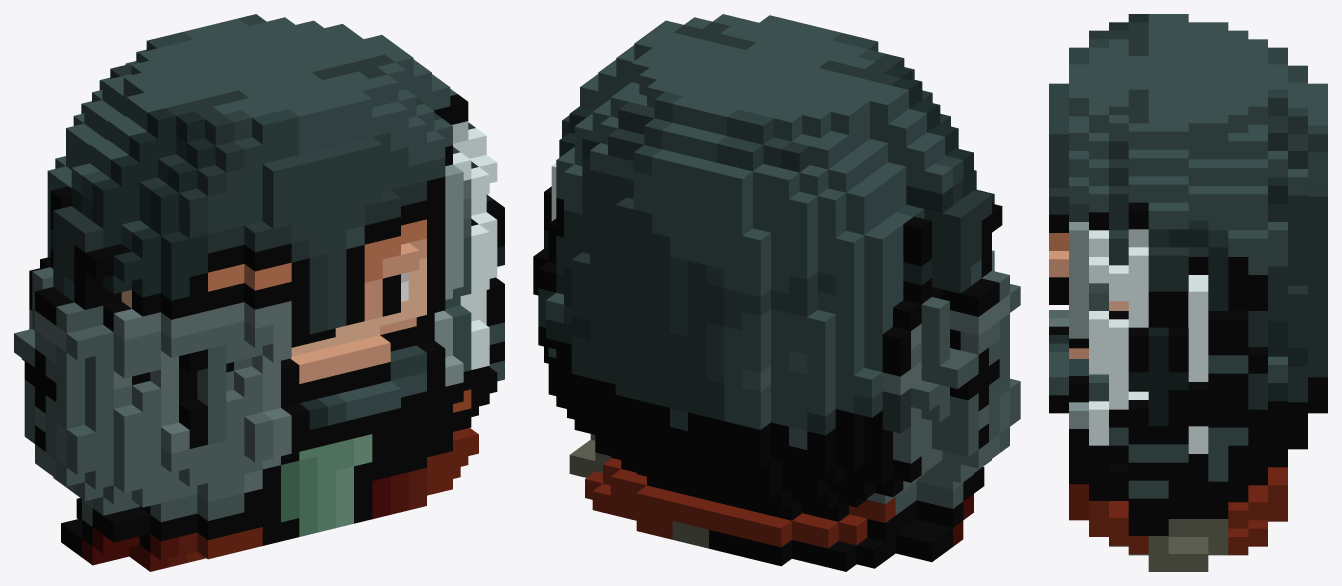
File: Icon_704_03.obj
The picture shows the model from 3 angles, left to right: view 1: azimuth 30°, elevation 25°; view 2: azimuth 150°, elevation 25°; view 3: azimuth 270°, elevation 25°; orthographic projection. The views are drawn at different scales.
Bounding box in the file's own units: 2.4 × 2.3 × 1.4.
1 material, 1 textured.
